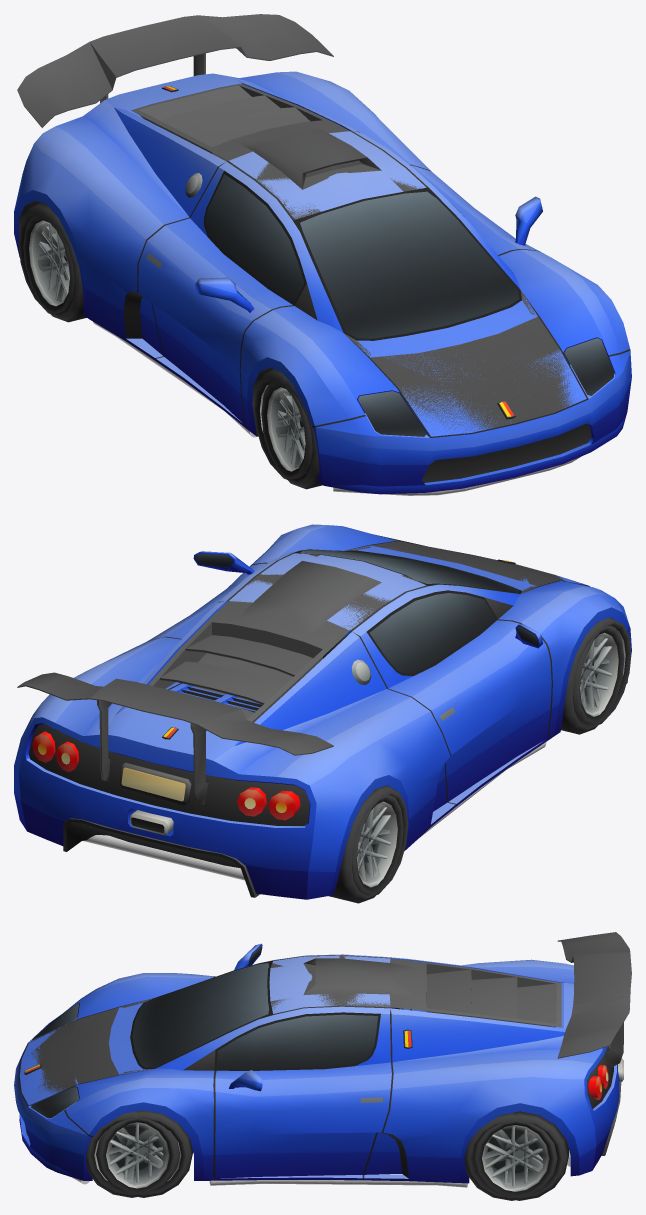
File: Car_8.fbx
3 views of the same model, one above another, from view 1: azimuth 30°, elevation 25°; view 2: azimuth 150°, elevation 25°; view 3: azimuth 270°, elevation 25° (orthographic). The views are drawn at different scales.
Visible parts, largest first — view 1: Car_20A, CarbonPart.006, Spoiler.007, OldPart.007, Wheel_20A_R.R.001, Wheel_20A_F.R.001, Wheel_20A_F.R, Wheel_20A_R.R, Neon.007; view 2: Car_20A, CarbonPart.006, Spoiler.007, OldPart.007, Wheel_20A_R.R, Wheel_20A_F.R, Wheel_20A_F.R.001, Neon.007, Wheel_20A_R.R.001; view 3: Car_20A, CarbonPart.006, Spoiler.007, OldPart.007, Wheel_20A_F.L, Wheel_20A_R.L.001, Wheel_20A_R.L, Wheel_20A_F.L.001, Neon.007.
Boxes of the visible parts, box(x1,y1,x2,y2) form: Car_20A: box(14, 71, 631, 494); CarbonPart.006: box(131, 83, 573, 432); Spoiler.007: box(17, 14, 333, 127); OldPart.007: box(127, 82, 586, 436); Wheel_20A_R.R.001: box(23, 211, 86, 322); Wheel_20A_F.R.001: box(261, 379, 322, 489); Wheel_20A_F.R: box(254, 369, 312, 479); Wheel_20A_R.R: box(18, 202, 74, 313); Neon.007: box(93, 322, 580, 495); Car_20A: box(14, 524, 631, 899); CarbonPart.006: box(148, 541, 566, 722); Spoiler.007: box(17, 672, 333, 804); OldPart.007: box(165, 545, 585, 712); Wheel_20A_R.R: box(328, 791, 403, 903); Wheel_20A_F.R: box(561, 623, 624, 734); Wheel_20A_F.R.001: box(573, 618, 631, 724); Neon.007: box(83, 742, 546, 880); Wheel_20A_R.R.001: box(352, 785, 408, 894); Car_20A: box(14, 943, 623, 1183); CarbonPart.006: box(27, 955, 561, 1094); Spoiler.007: box(557, 932, 631, 1067); OldPart.007: box(19, 955, 563, 1105); Wheel_20A_F.L: box(96, 1110, 192, 1197); Wheel_20A_R.L.001: box(464, 1112, 557, 1200); Wheel_20A_R.L: box(474, 1111, 568, 1200); Wheel_20A_F.L.001: box(86, 1111, 180, 1197); Neon.007: box(71, 1150, 570, 1187).
Bounding box in the file's own units: 2.83 × 1.58 × 5.31.
3 materials, 3 textured.
